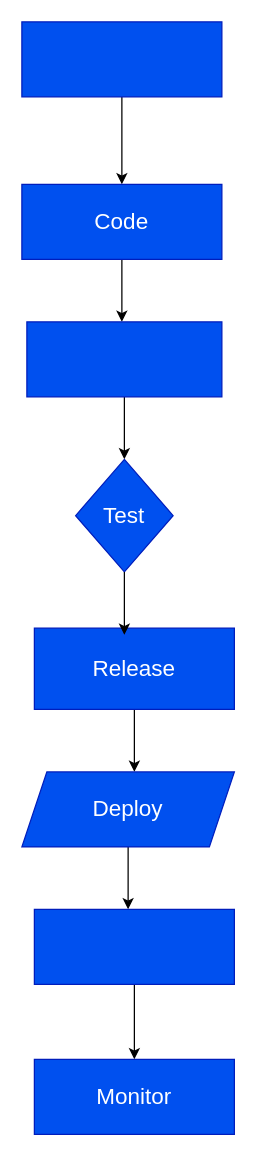
This 256x1156 diagram has some shape labels left out. Each missing label, with the centre of its shape:
"Build" belongs at [124,359].
"Operate" belongs at [133,946].
"Plan app" belongs at [121,59].
